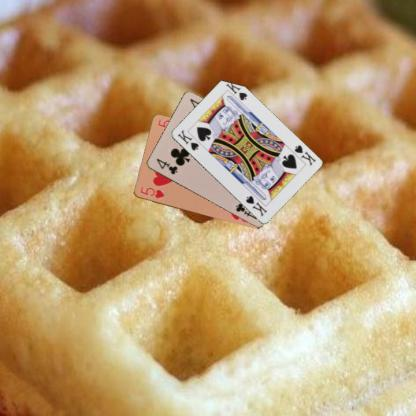4c: (154, 156, 178, 176)
5h: (137, 184, 166, 202)
Ks: (174, 127, 200, 152), (291, 142, 317, 167)
